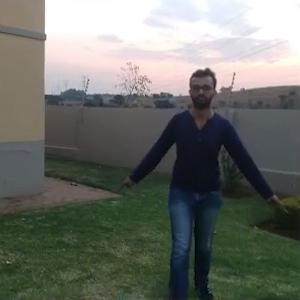land: (113, 56, 285, 280)
